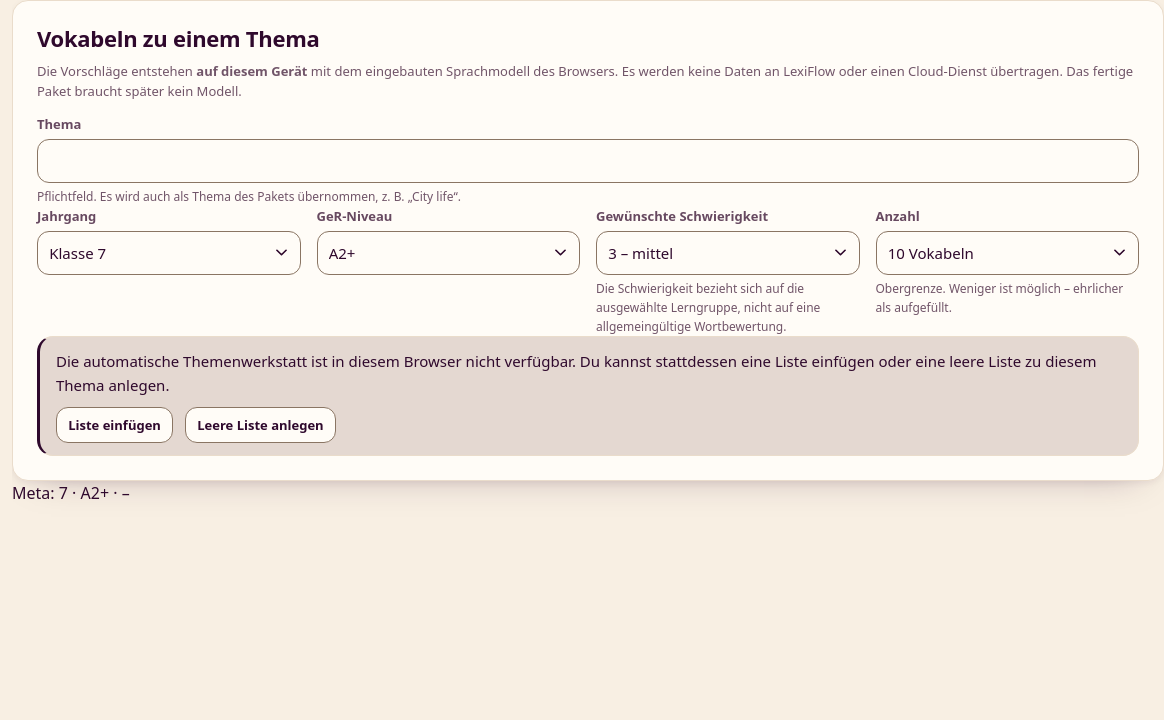
Test: Ohne Sprachmodell › verlangt auch für die leere Liste ein Thema
Step 1. Click the button "Leere Liste anlegen" → (260, 425), box [185,407,336,443]
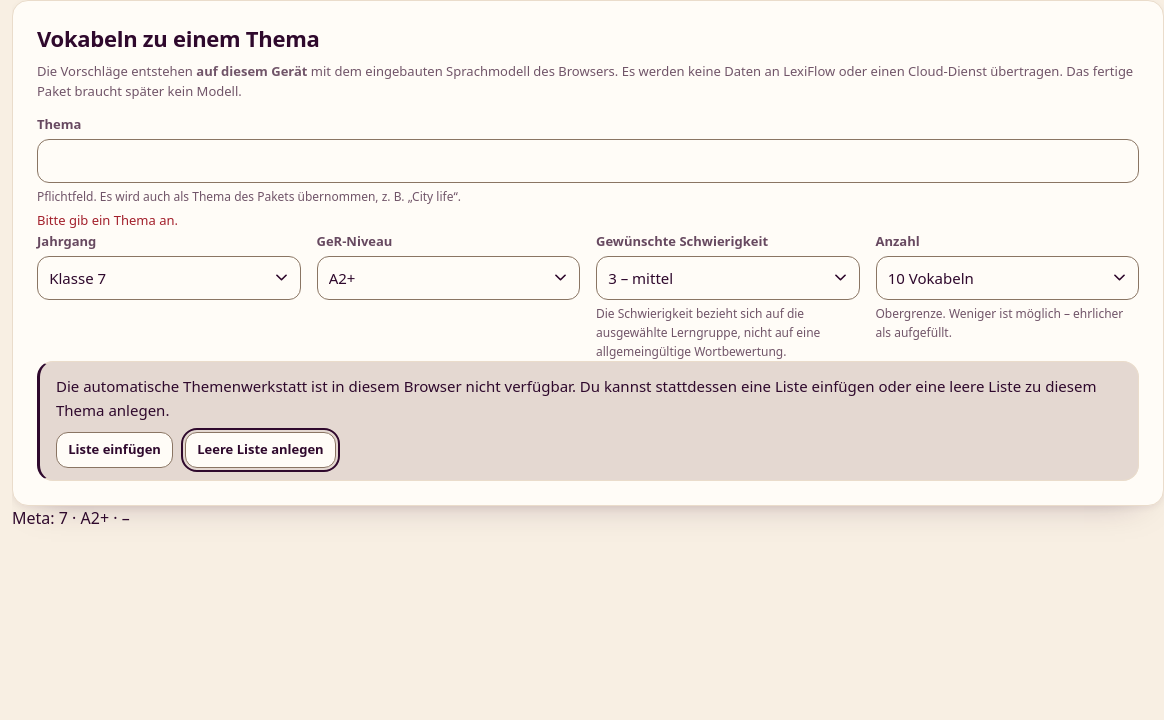
Result: the text "Bitte gib ein Thema an." is shown at [37,211,178,229]
